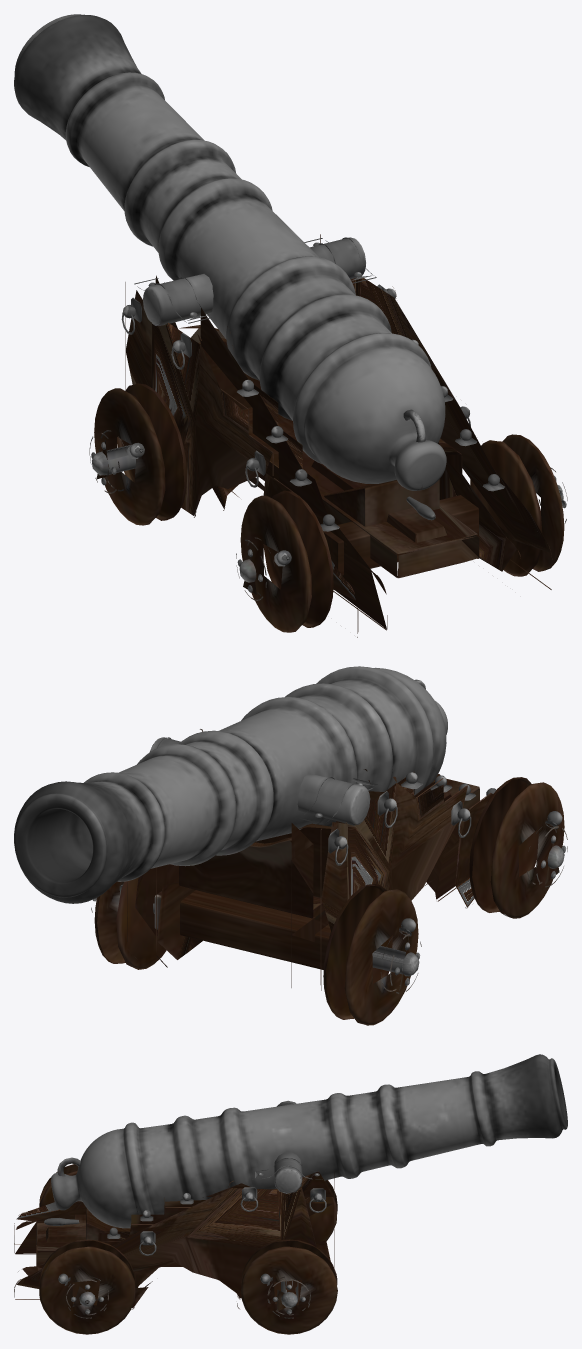
The model's file is canhao.glb.
3 renders of one model, top to bottom at view 1: azimuth 30°, elevation 25°; view 2: azimuth 150°, elevation 25°; view 3: azimuth 270°, elevation 25°, orthographic. The views are drawn at different scales.
Visible parts, largest first — view 1: Cannon, Base, Wheel2, Wheel3, Wheel, Pegs, Angler, BaseRearSupp, Axel; view 2: Cannon, Base, Wheel2, Wheel3, BaseFrontSupp, Wheel1, Pegs, Axel; view 3: Cannon, Base, Wheel, Wheel1, Pegs, Wheel3, Angler, Wheel2.
Part boxes in pixels (<box>): Cannon: <box>14,14,446,490</box>; Base: <box>125,234,552,637</box>; Wheel2: <box>236,490,333,632</box>; Wheel3: <box>89,383,186,525</box>; Wheel: <box>470,434,567,576</box>; Pegs: <box>143,237,365,325</box>; Angler: <box>324,479,439,526</box>; BaseRearSupp: <box>323,495,478,575</box>; Axel: <box>92,444,135,475</box>; Cannon: <box>14,666,447,903</box>; Base: <box>127,729,492,990</box>; Wheel2: <box>469,777,567,918</box>; Wheel3: <box>323,884,421,1025</box>; BaseFrontSupp: <box>154,890,330,969</box>; Wheel1: <box>91,878,166,969</box>; Pegs: <box>149,737,370,825</box>; Axel: <box>119,884,419,976</box>; Cannon: <box>51,1054,567,1228</box>; Base: <box>14,1171,334,1309</box>; Wheel: <box>39,1239,135,1334</box>; Wheel1: <box>241,1239,337,1334</box>; Pegs: <box>274,1100,302,1193</box>; Wheel3: <box>309,1180,337,1242</box>; Angler: <box>86,1207,130,1240</box>; Wheel2: <box>39,1164,78,1207</box>.
Size of the model in its own units: 344 by 345 by 741.
1 material, 1 textured.
